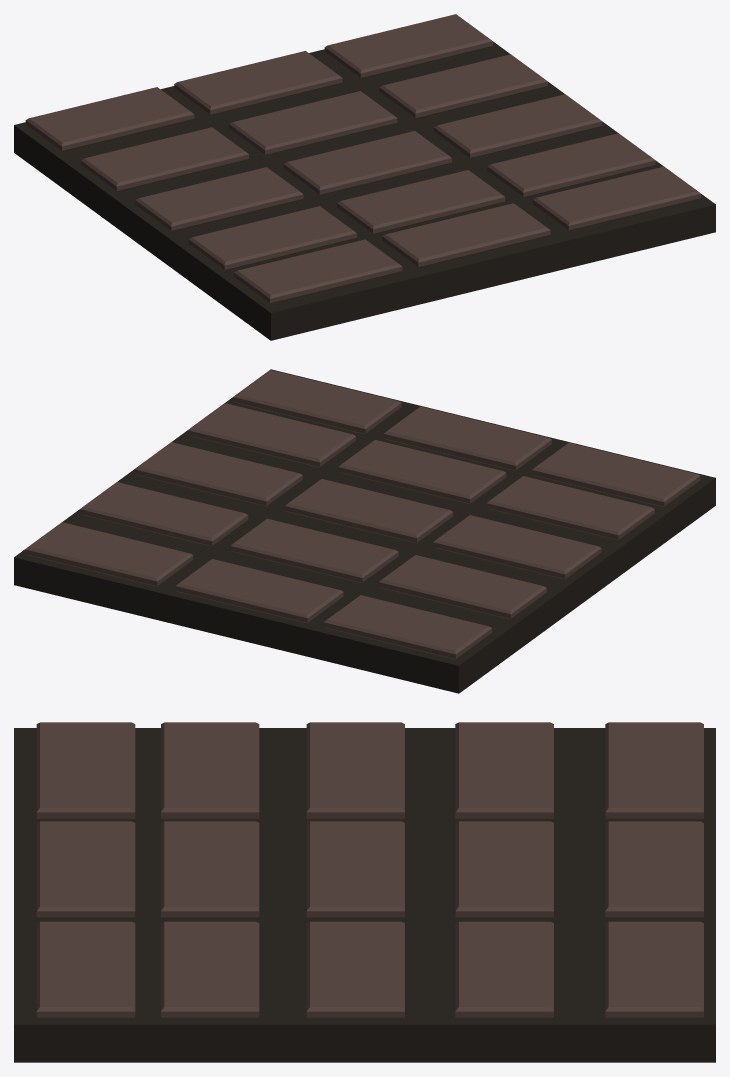
The model's file is Pared ladrillos.fbx.
3 renders of one model, top to bottom at view 1: azimuth 30°, elevation 25°; view 2: azimuth 150°, elevation 25°; view 3: azimuth 270°, elevation 25°, orthographic. The views are drawn at different scales.
Parts seen in each view (by area): view 1: pCube64; view 2: pCube64; view 3: pCube64.
Part boxes in pixels (x1,y1,x2,y2): pCube64: (14,14,715,340); pCube64: (14,369,715,693); pCube64: (14,722,715,1062).
Size of the model in its own units: 2.99 by 0.2339 by 2.99.
